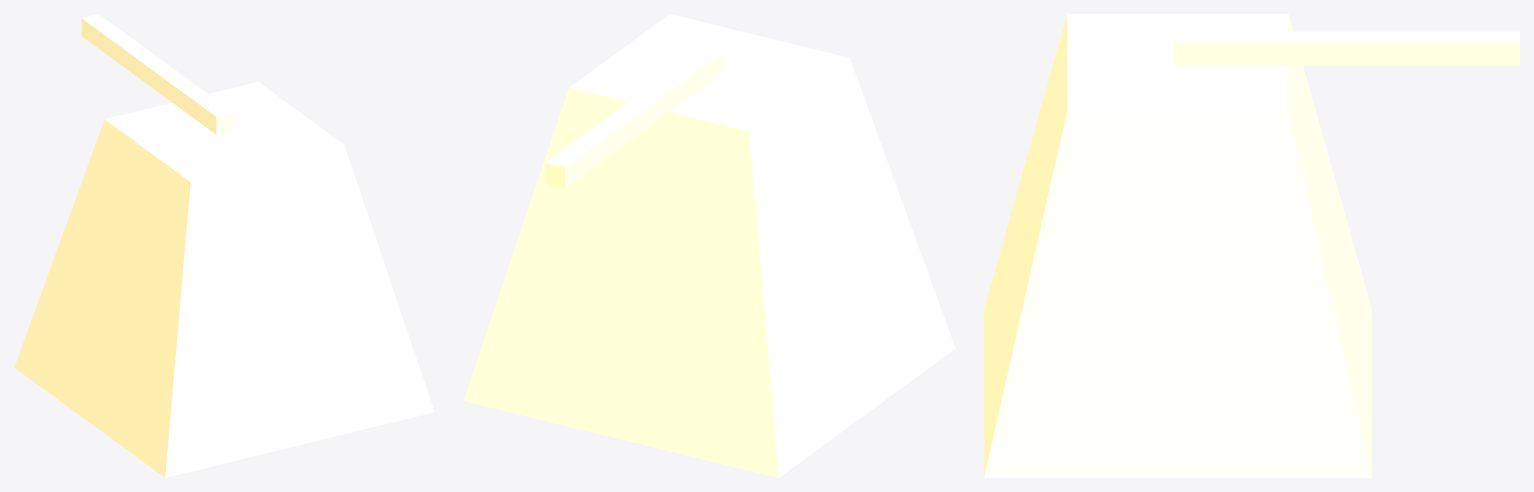
Rendered from ToonBarLamp.fbx.
The picture shows the model from 3 angles, left to right: view 1: azimuth 30°, elevation 25°; view 2: azimuth 150°, elevation 25°; view 3: azimuth 270°, elevation 25°; orthographic projection. The views are drawn at different scales.
Visible parts, largest first — view 1: Cube.010; view 2: Cube.010; view 3: Cube.010.
Part boxes in pixels (x1,y1,x2,y2): Cube.010: [14, 14, 434, 477]; Cube.010: [463, 14, 955, 477]; Cube.010: [984, 14, 1519, 477].
Bounding box in the file's own units: 76.6 × 75.16 × 103.
